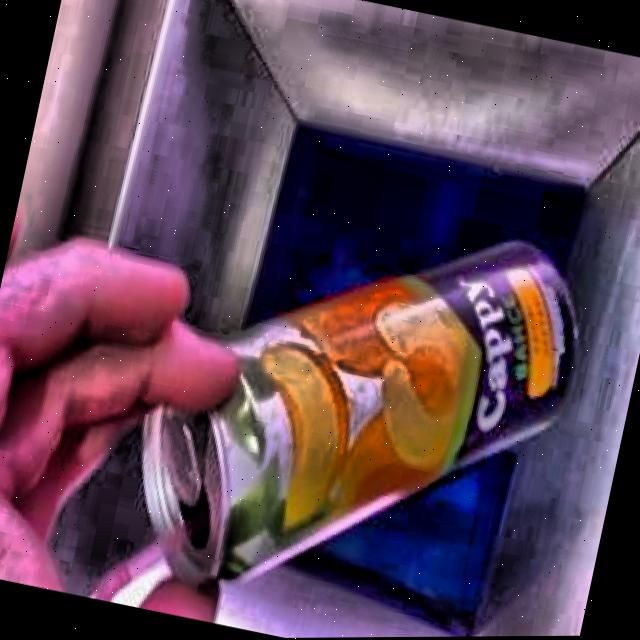metal: (143, 243, 577, 578)
